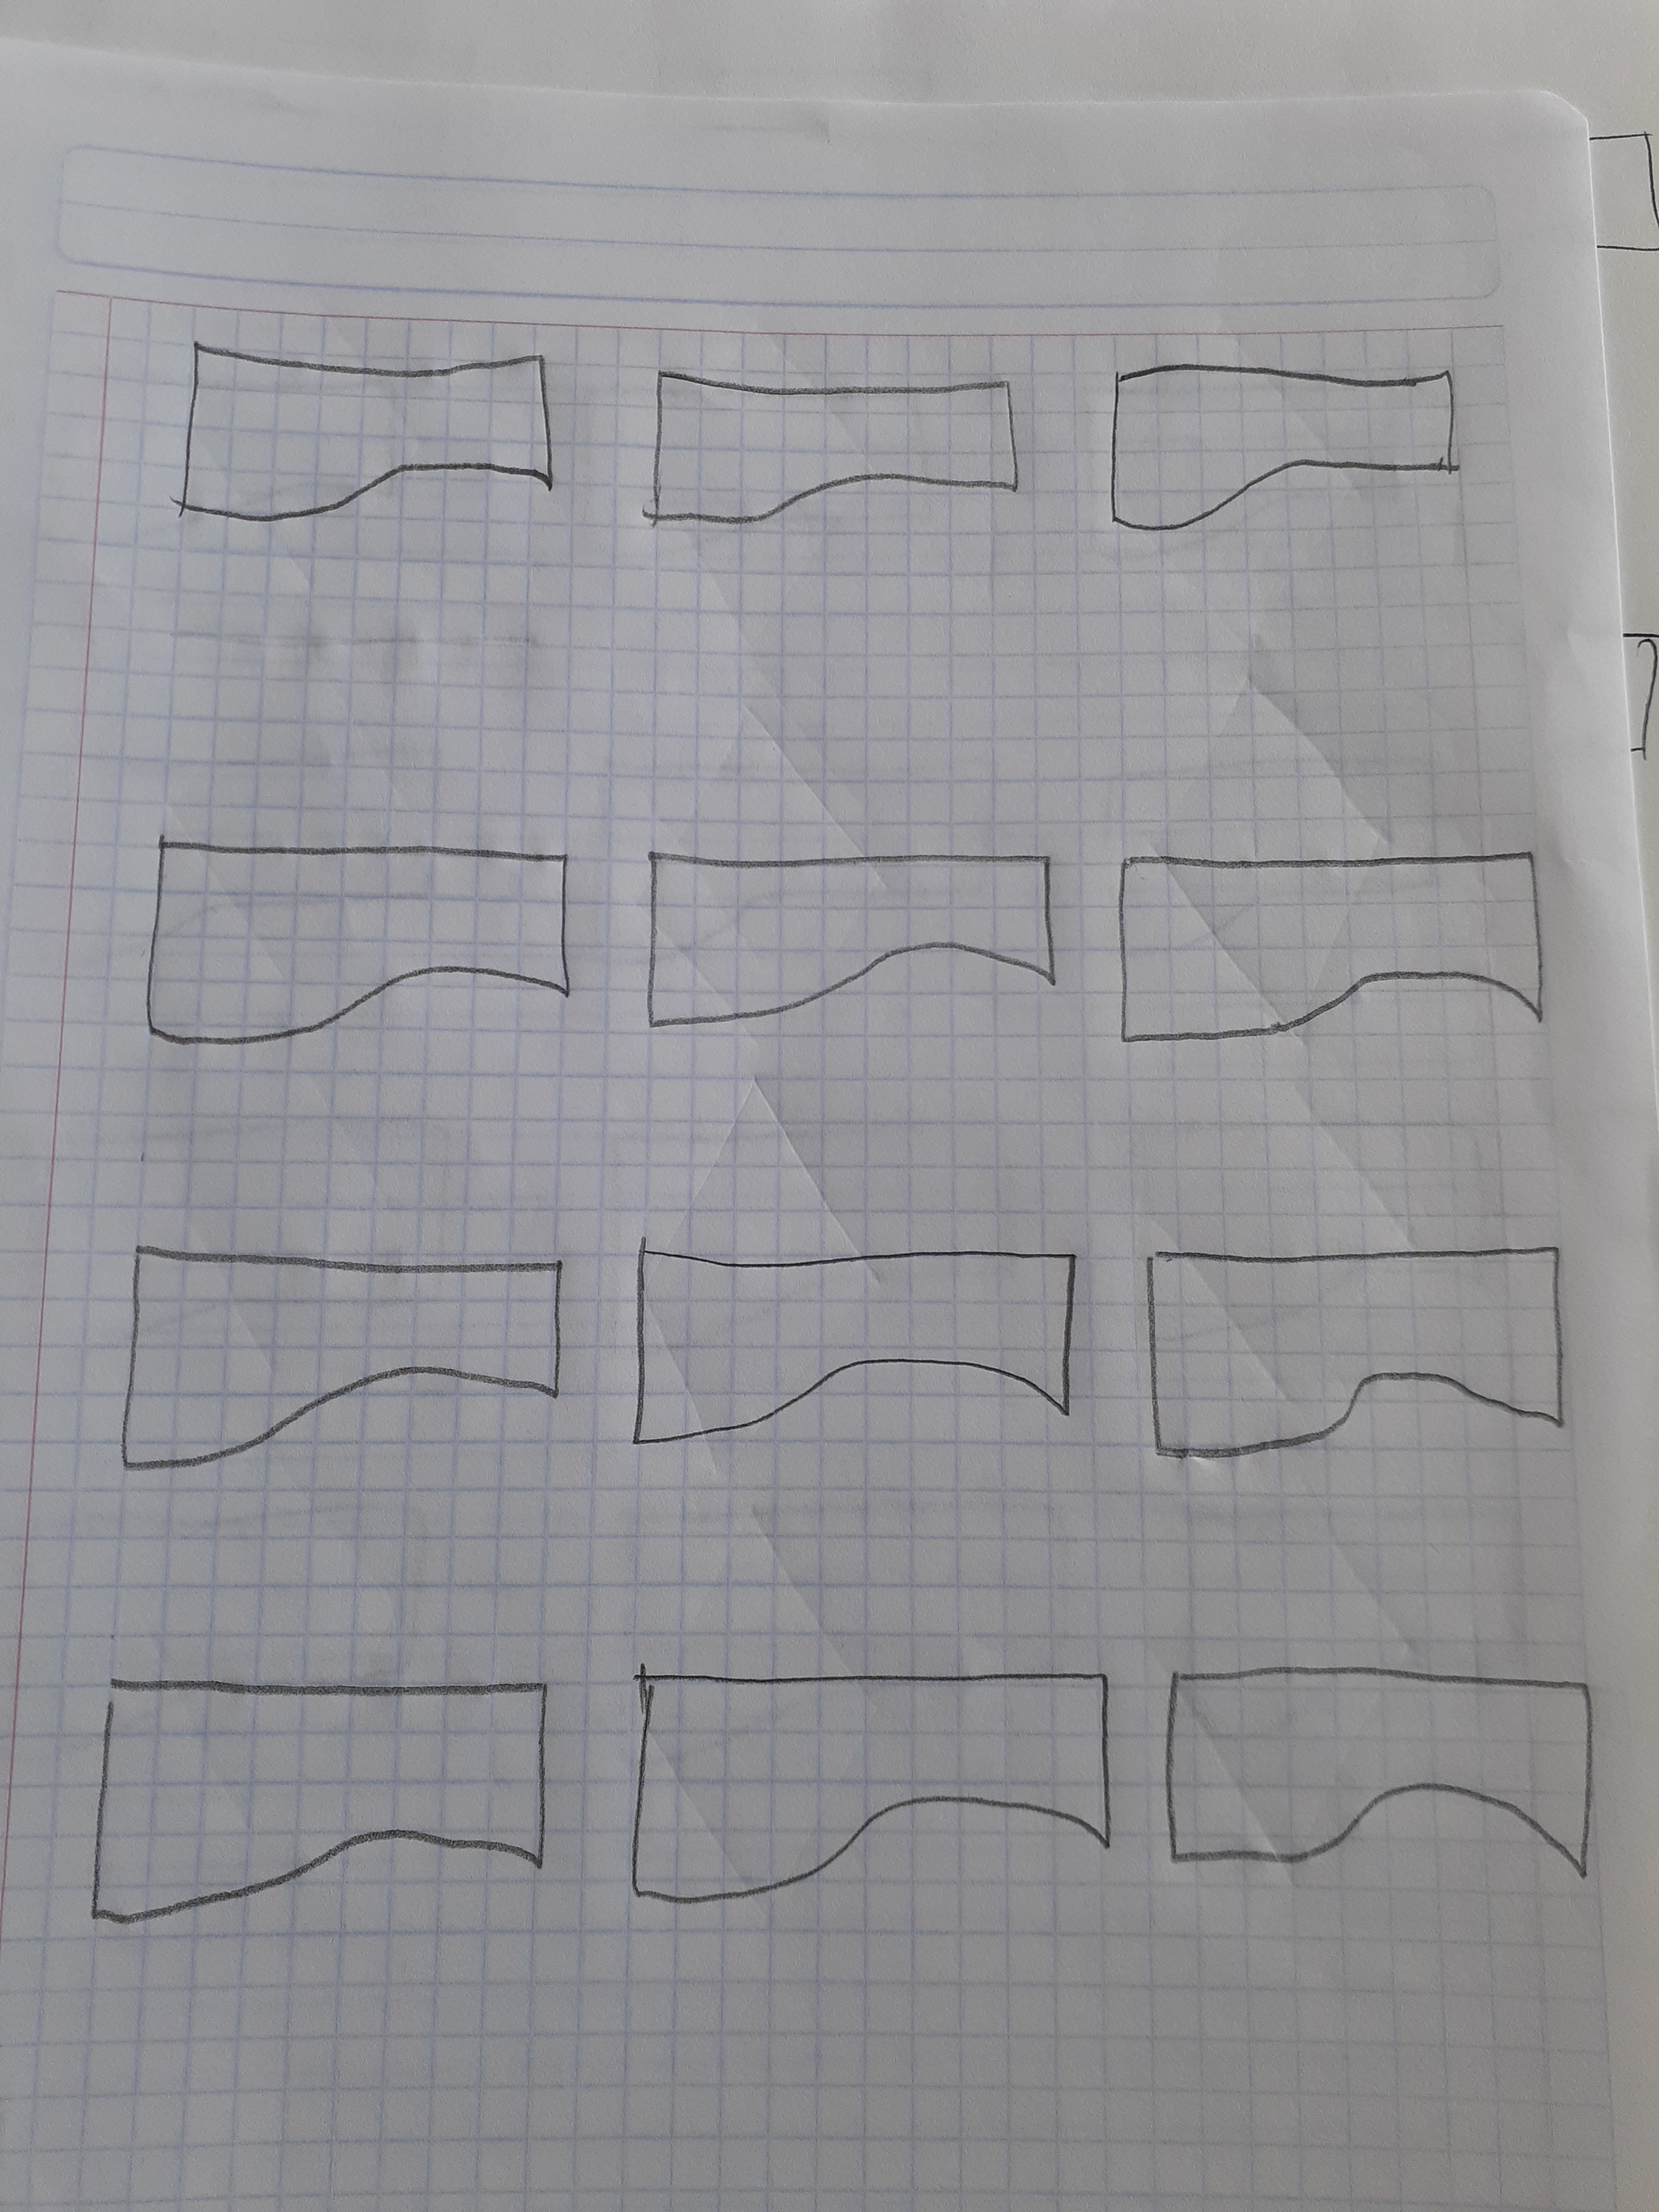print: (61, 1634, 566, 1940), (620, 1641, 1136, 1919), (613, 1200, 1094, 1486), (103, 1200, 580, 1486), (1155, 1634, 1621, 1923), (1136, 1207, 1589, 1496), (122, 794, 587, 1075), (620, 794, 1072, 1069), (1105, 831, 1563, 1062), (153, 310, 584, 543), (1086, 329, 1481, 543), (641, 333, 1033, 547)
